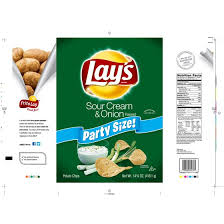lays-small: (56, 35, 162, 179)
